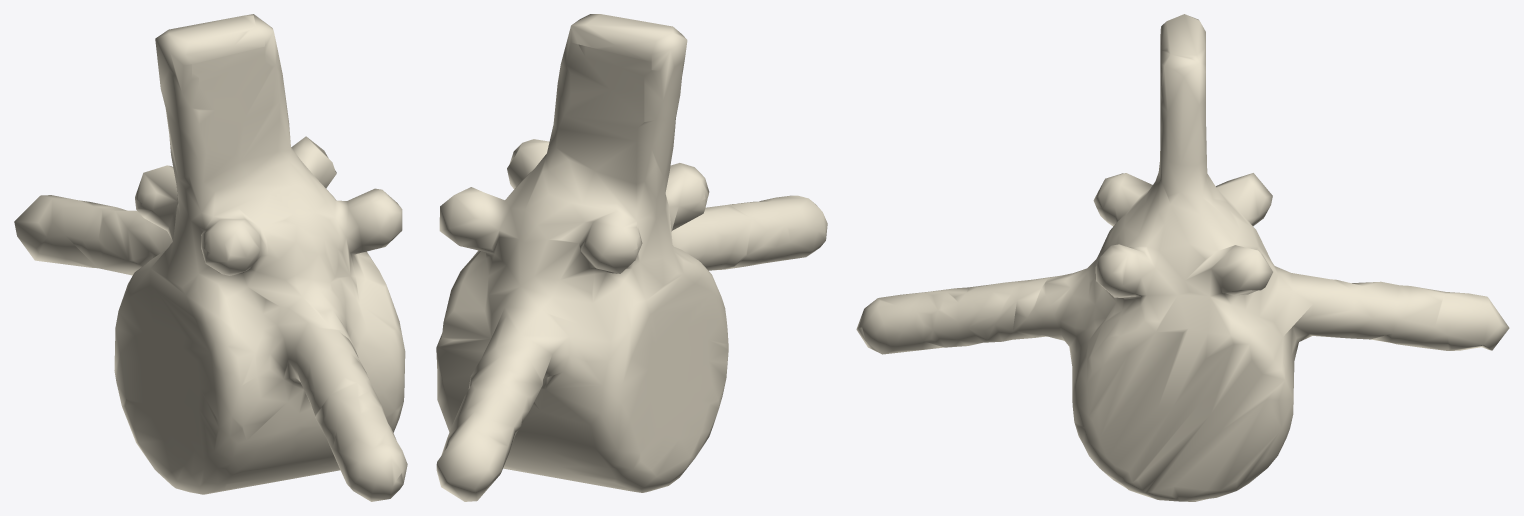
File: lumbar_1.glb
3 views of the same model, side by side, from view 1: azimuth 30°, elevation 25°; view 2: azimuth 150°, elevation 25°; view 3: azimuth 270°, elevation 25° (orthographic). The views are drawn at different scales.
Parts seen in each view (by area): view 1: geometry_0; view 2: geometry_0; view 3: geometry_0.
Part boxes in pixels (x1,y1,x2,y2): geometry_0: [14, 14, 407, 501]; geometry_0: [436, 14, 827, 501]; geometry_0: [856, 14, 1509, 501].
Size of the model in its own units: 0.1122 by 0.2417 by 0.3425.
